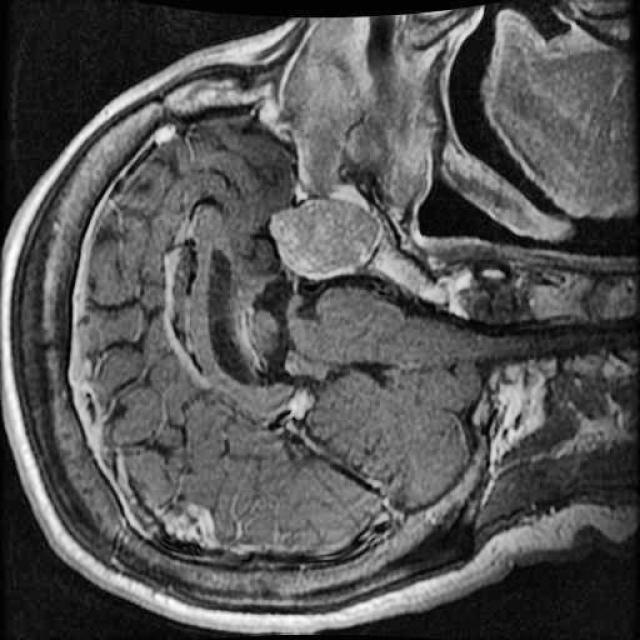Tumor: (249, 183, 400, 299)
